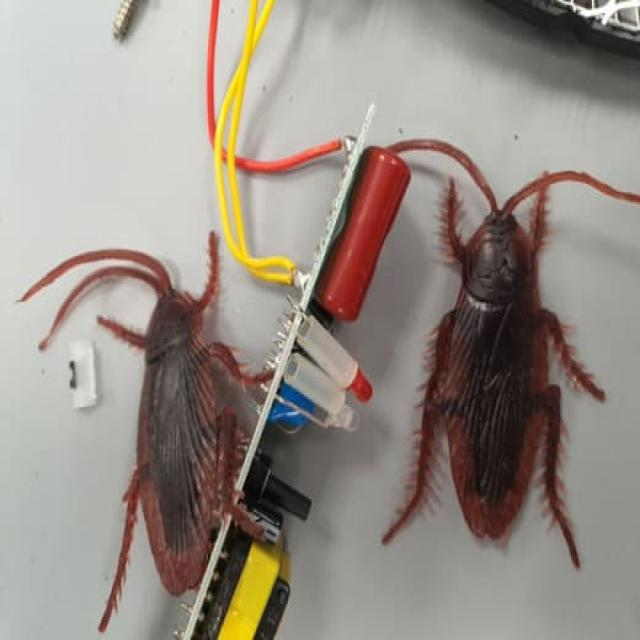Cockroach: (360, 124, 640, 595), (10, 218, 267, 630)
